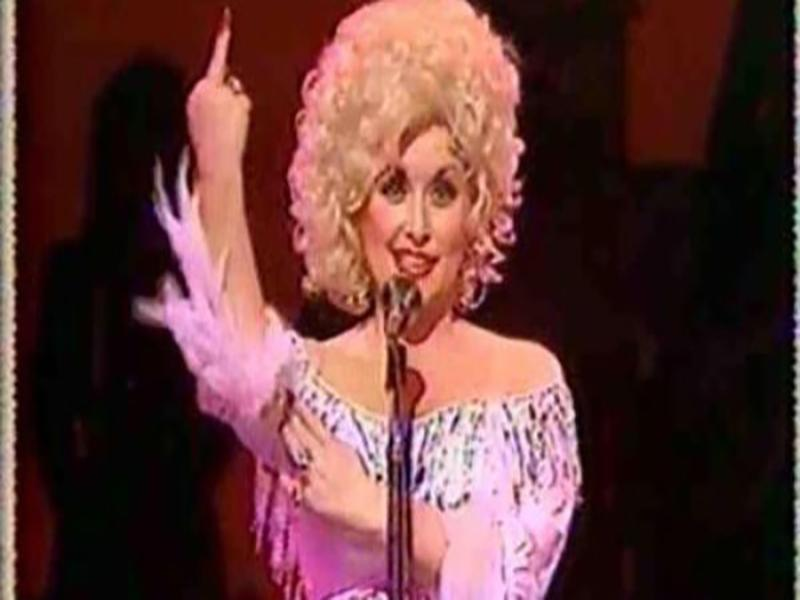flipping_the_bird: (179, 16, 266, 155)
